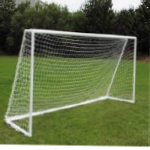goals: (5, 27, 139, 140)
